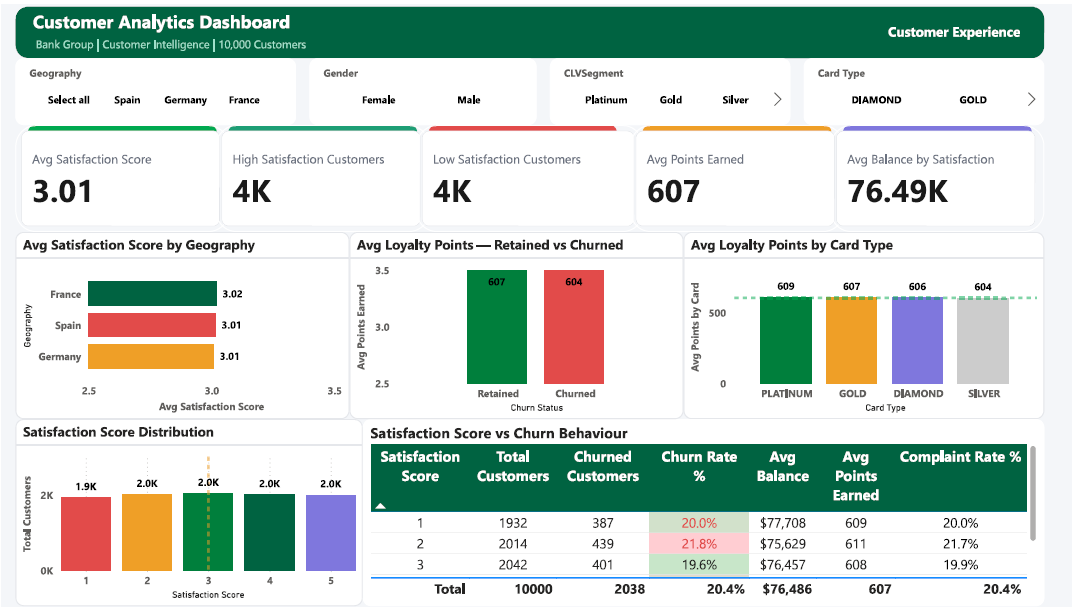

The page's visual inventory and layout, read from the dashboard file:
{"tool":"powerbi","page":{"name":"Customer Experience","canvas":[1280,720],"ordinal":3},"visuals":[{"type":"group","id":"g1","title":"Group 6","box":[16,0,1232,64],"z":0},{"type":"shape","box":[16,1.9,1232,62.1],"z":0,"group":"g1"},{"type":"clusteredColumnChart","title":"Satisfaction Score Distribution","fields":{"Category":["CustomerBase.Satisfaction Score"],"Y":["_Measures.Total Customers"]},"box":[16,496,416,224],"z":1},{"type":"clusteredBarChart","title":"Avg Satisfaction Score by Geography","fields":{"Category":["CustomerBase.Geography"],"Y":["_Measures.Avg Satisfaction Score"]},"box":[16,272,400,224],"z":2},{"type":"clusteredColumnChart","title":"Avg Loyalty Points by Card Type","fields":{"Category":["CustomerBase.Card Type"],"Y":["_Measures.Avg Points by Card"]},"box":[816,272,432,224],"z":3},{"type":"tableEx","title":"Satisfaction Score vs Churn Behaviour","fields":{"Values":["CustomerBase.Satisfaction Score","_Measures.Total Customers","_Measures.Churned Customers","_Measures.Churn Rate %","_Measures.Avg Balance","_Measures.Avg Points Earned","_Measures.Complaint Rate %"]},"box":[432,496,816,224],"z":4},{"type":"group","id":"g2","title":"Group 1","box":[16,144,256,128],"z":5},{"type":"group","id":"g3","title":"Group 2","box":[256,144,256,128],"z":6},{"type":"group","id":"g4","title":"Group 7","box":[496,144,288,128],"z":7},{"type":"group","id":"g5","title":"Group 7","box":[752,144,256,128],"z":8},{"type":"group","id":"g6","title":"Group 7","box":[992,144,256,128],"z":9},{"type":"clusteredColumnChart","title":"Avg Loyalty Points — Retained vs Churned","fields":{"Category":["CustomerBase.Churn Status"],"Y":["_Measures.Avg Points Earned"]},"box":[416,272,400,224],"z":10},{"type":"slicer","fields":{"Values":["CustomerBase.Gender"]},"box":[368,64,272,80],"z":12},{"type":"slicer","fields":{"Values":["CustomerBase.Card Type"]},"box":[960,64,288,80],"z":13},{"type":"slicer","fields":{"Values":["CustomerBase.CLVSegment"]},"box":[656,64,288,80],"z":14},{"type":"slicer","fields":{"Values":["CustomerBase.Geography"]},"box":[16,64,336,80],"z":15},{"type":"textbox","box":[32.2,0,551.2,46.5],"z":1000,"group":"g1"},{"type":"shape","box":[31.1,144,225.9,16],"z":1000,"group":"g2"},{"type":"shape","box":[271.1,144,225.9,16],"z":1000,"group":"g3"},{"type":"shape","box":[511,144,225,16],"z":1000,"group":"g4"},{"type":"shape","box":[767.1,144,225.9,16],"z":1000,"group":"g5"},{"type":"shape","box":[1007.1,144,225.9,16],"z":1000,"group":"g6"},{"type":"cardVisual","fields":{"Data":["_Measures.Avg Satisfaction Score"]},"box":[16,144,256,128],"z":3000,"group":"g2"},{"type":"cardVisual","fields":{"Data":["_Measures.High Satisfaction Customers"]},"box":[256,144,256,128],"z":3000,"group":"g3"},{"type":"cardVisual","fields":{"Data":["_Measures.Low Satisfaction Customers"]},"box":[496,144,272,128],"z":3000,"group":"g4"},{"type":"cardVisual","fields":{"Data":["_Measures.Avg Points Earned"]},"box":[752,144,256,128],"z":3000,"group":"g5"},{"type":"cardVisual","fields":{"Data":["_Measures.Avg Balance by Satisfaction"]},"box":[992,144,256,128],"z":3000,"group":"g6"},{"type":"textbox","box":[32.2,33,421.5,31],"z":4000,"group":"g1"},{"type":"textbox","box":[1056,16,192,32],"z":5000,"group":"g1"}]}

Visuals, with their boxes in screenshot pixels (x1, y1, x2, y2), scaled from the page's 1280x720 canvas onto the 1081x610 screenshot:
"Group 6" group: bbox(14, 0, 1054, 54)
shape: bbox(14, 2, 1054, 54)
"Satisfaction Score Distribution" clusteredColumnChart: bbox(14, 420, 365, 609)
"Avg Satisfaction Score by Geography" clusteredBarChart: bbox(14, 230, 351, 420)
"Avg Loyalty Points by Card Type" clusteredColumnChart: bbox(689, 230, 1054, 420)
"Satisfaction Score vs Churn Behaviour" tableEx: bbox(365, 420, 1054, 609)
"Group 1" group: bbox(14, 122, 230, 230)
"Group 2" group: bbox(216, 122, 432, 230)
"Group 7" group: bbox(419, 122, 662, 230)
"Group 7" group: bbox(635, 122, 851, 230)
"Group 7" group: bbox(838, 122, 1054, 230)
"Avg Loyalty Points — Retained vs Churned" clusteredColumnChart: bbox(351, 230, 689, 420)
slicer - CustomerBase.Gender: bbox(311, 54, 540, 122)
slicer - CustomerBase.Card Type: bbox(811, 54, 1054, 122)
slicer - CustomerBase.CLVSegment: bbox(554, 54, 797, 122)
slicer - CustomerBase.Geography: bbox(14, 54, 297, 122)
textbox: bbox(27, 0, 493, 39)
shape: bbox(26, 122, 217, 136)
shape: bbox(229, 122, 420, 136)
shape: bbox(432, 122, 622, 136)
shape: bbox(648, 122, 839, 136)
shape: bbox(851, 122, 1041, 136)
cardVisual - _Measures.Avg Satisfaction Score: bbox(14, 122, 230, 230)
cardVisual - _Measures.High Satisfaction Customers: bbox(216, 122, 432, 230)
cardVisual - _Measures.Low Satisfaction Customers: bbox(419, 122, 649, 230)
cardVisual - _Measures.Avg Points Earned: bbox(635, 122, 851, 230)
cardVisual - _Measures.Avg Balance by Satisfaction: bbox(838, 122, 1054, 230)
textbox: bbox(27, 28, 383, 54)
textbox: bbox(892, 14, 1054, 41)
